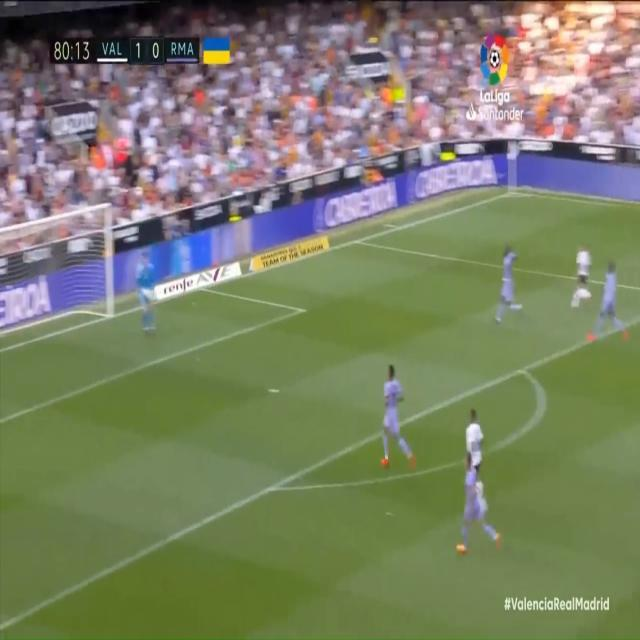goalkeeper: (134, 247, 159, 341)
player: (380, 351, 417, 473), (459, 449, 500, 559), (595, 255, 627, 339), (496, 241, 523, 329), (464, 405, 489, 480), (572, 242, 593, 317)
